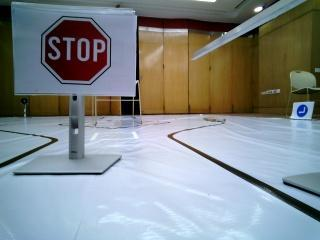stop: (25, 6, 122, 88)
